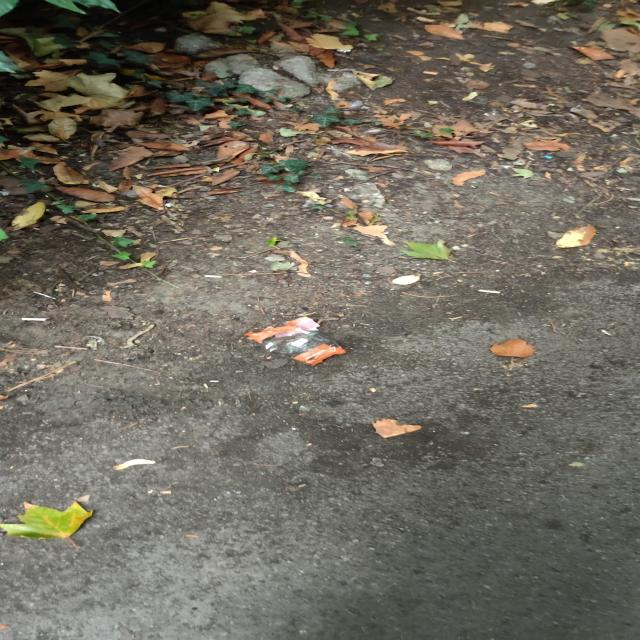litter: (230, 313, 362, 372)
